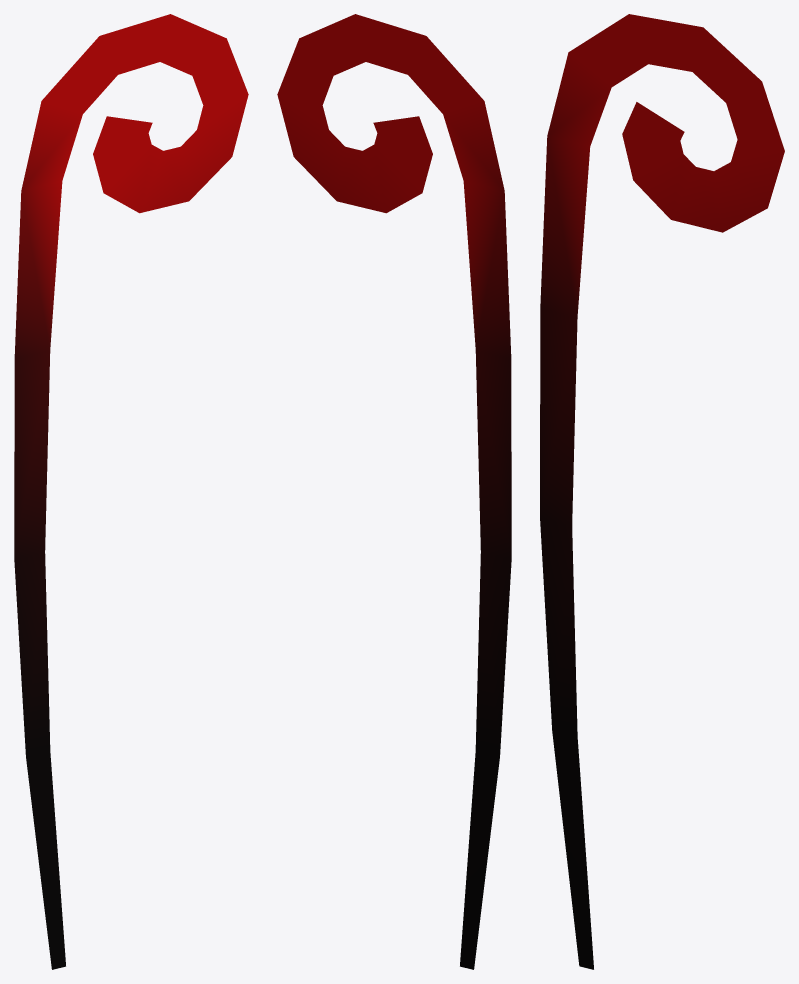
Rendered from SM_Fern_03_LOD1.fbx.
The picture shows the model from 3 angles, left to right: view 1: azimuth 30°, elevation 25°; view 2: azimuth 150°, elevation 25°; view 3: azimuth 330°, elevation 25°; orthographic projection. The views are drawn at different scales.
Parts seen in each view (by area): view 1: Fern_03_LOD1; view 2: Fern_03_LOD1; view 3: Fern_03_LOD1.
Part boxes in pixels (x1,y1,x2,y2): Fern_03_LOD1: (14, 14, 248, 969); Fern_03_LOD1: (277, 14, 511, 969); Fern_03_LOD1: (540, 14, 784, 969).
Size of the model in its own units: 31.2 by 118 by 2.52e-05.
